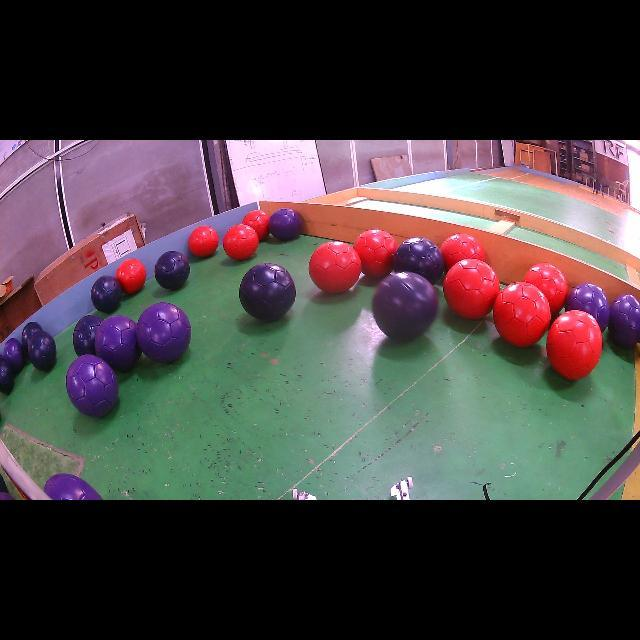B: (239, 262, 296, 321), (392, 238, 444, 284), (154, 251, 190, 290), (72, 315, 102, 356), (28, 330, 56, 371), (91, 275, 121, 313), (21, 321, 42, 355), (0, 355, 14, 394)
P: (372, 272, 439, 340), (66, 355, 119, 418), (136, 302, 191, 362), (95, 315, 141, 371), (565, 282, 610, 332), (608, 294, 640, 349), (44, 474, 102, 500), (269, 208, 302, 240), (4, 338, 25, 374)
R: (492, 282, 551, 348), (546, 310, 602, 379), (444, 259, 500, 319), (309, 241, 361, 292), (524, 262, 568, 316), (354, 229, 398, 278), (440, 234, 486, 269), (222, 224, 259, 260), (116, 259, 146, 294), (189, 226, 219, 258), (242, 210, 270, 239)
